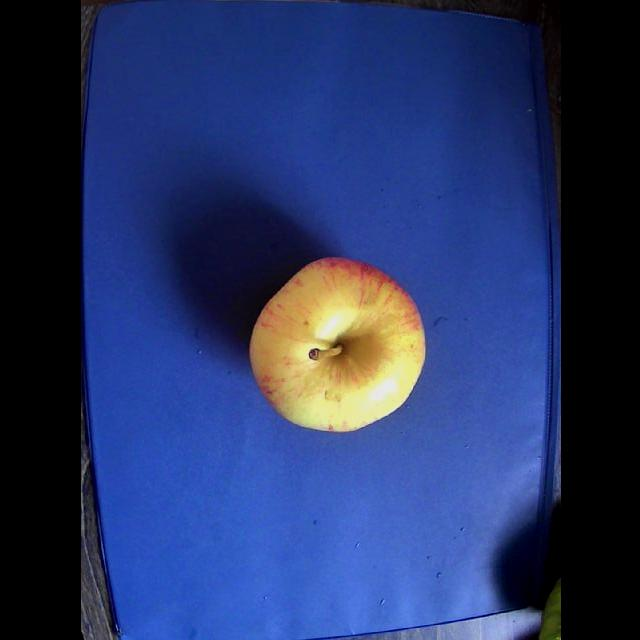manzana: (249, 258, 425, 432)
